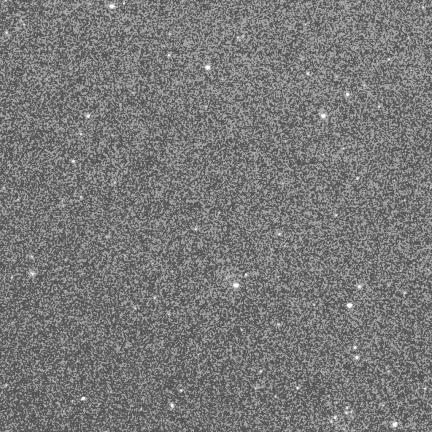blob: (347, 303, 353, 308), (233, 283, 239, 288), (393, 422, 397, 427), (110, 4, 115, 8), (81, 397, 86, 401), (206, 65, 210, 70), (321, 114, 325, 118), (277, 323, 281, 327), (358, 285, 362, 289), (356, 356, 360, 360), (346, 92, 349, 96), (87, 114, 90, 118), (357, 177, 360, 181), (171, 403, 174, 407), (354, 346, 356, 349)
